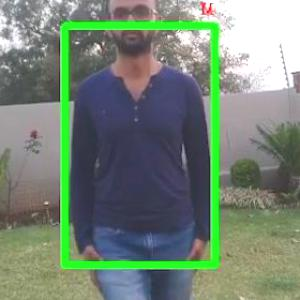follow: (68, 0, 220, 299)
